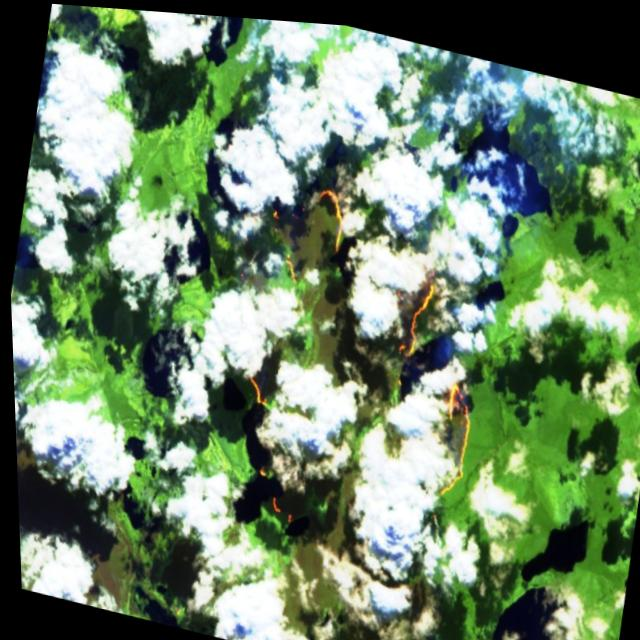fire: (204, 153, 514, 564)
